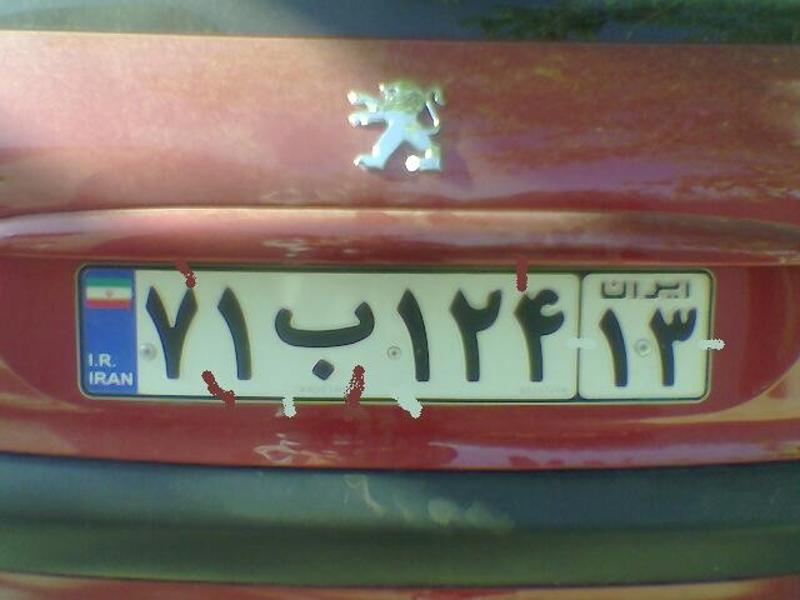Plate: (64, 251, 731, 421)
